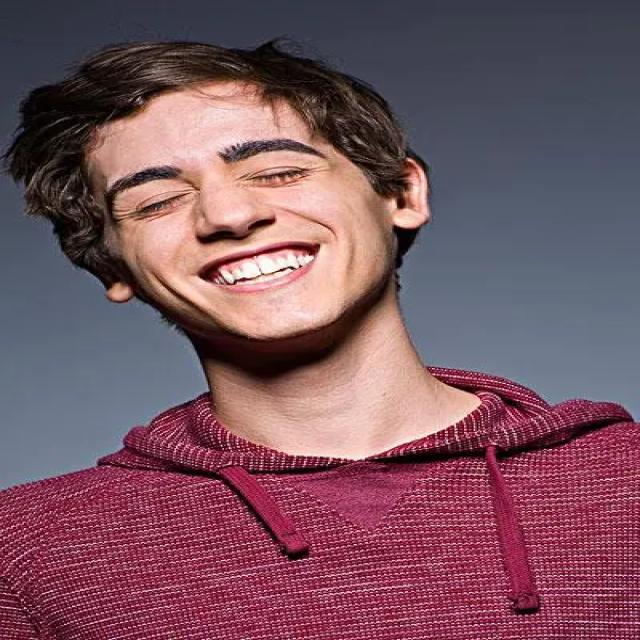Closed: (112, 177, 202, 224), (234, 161, 336, 189), (240, 164, 310, 188)
